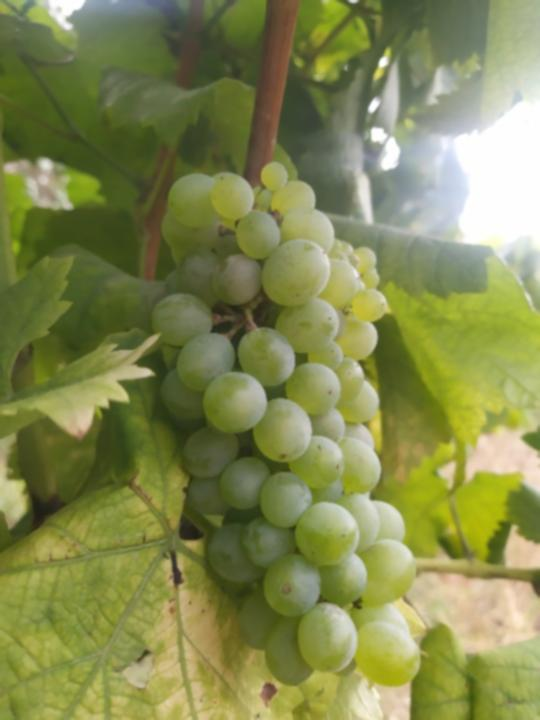grape: (148, 160, 428, 690)
